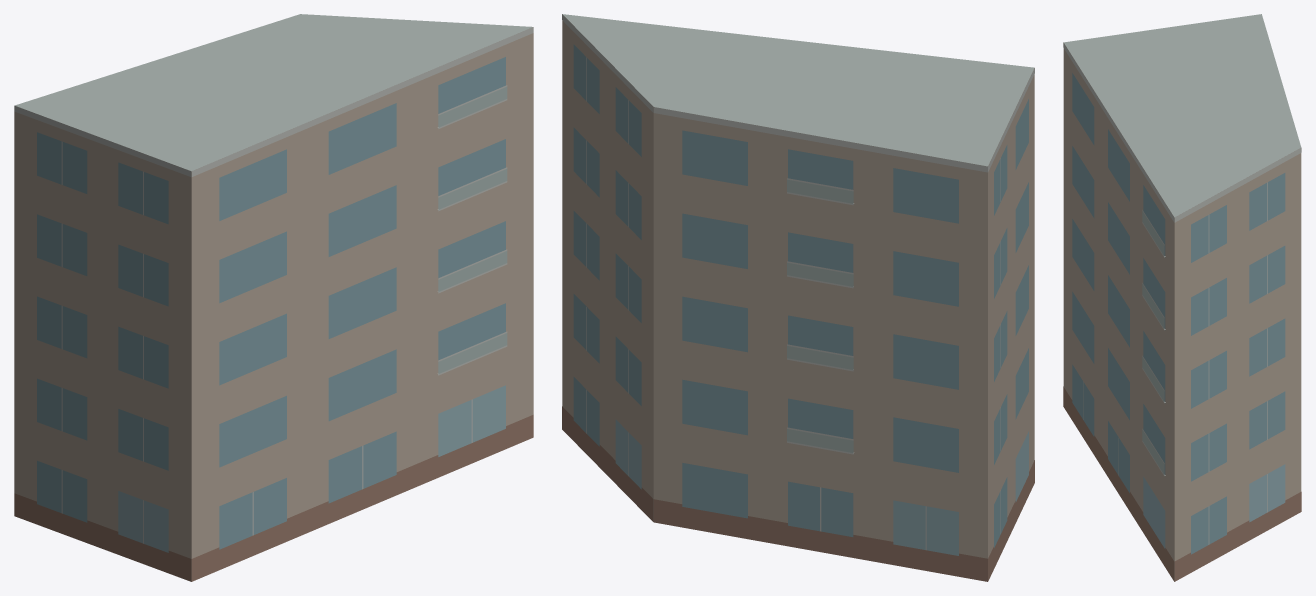
File: survey-upis-32835367.glb
3 views of the same model, side by side, from view 1: azimuth 30°, elevation 25°; view 2: azimuth 150°, elevation 25°; view 3: azimuth 270°, elevation 25° (orthographic). The views are drawn at different scales.
Visible parts, largest first — view 1: survey-upis-32835367.tmp; view 2: survey-upis-32835367.tmp; view 3: survey-upis-32835367.tmp.
Part boxes in pixels (x1,y1,x2,y2): survey-upis-32835367.tmp: [14, 14, 533, 581]; survey-upis-32835367.tmp: [562, 14, 1034, 581]; survey-upis-32835367.tmp: [1063, 14, 1301, 581].
Size of the model in its own units: 19.89 by 16.6 by 9.83.
